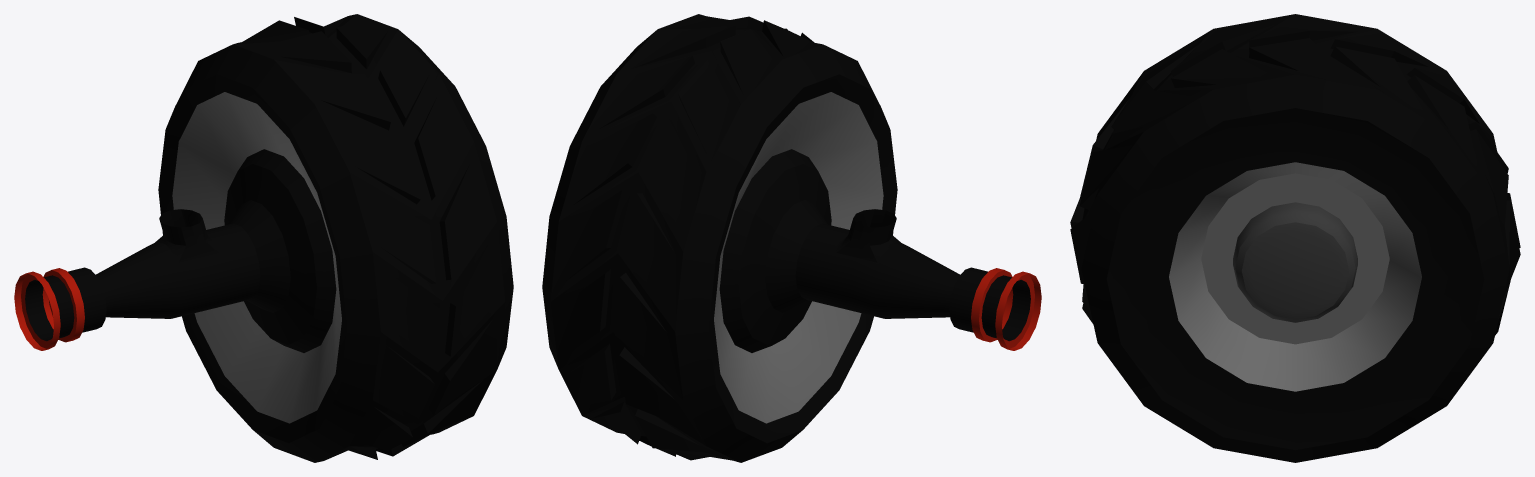
Rendered from wheel2.fbx.
3 views of the same model, side by side, from view 1: azimuth 30°, elevation 25°; view 2: azimuth 150°, elevation 25°; view 3: azimuth 270°, elevation 25° (orthographic).
Visible parts, largest first — view 1: Circle.004; view 2: Circle.004; view 3: Circle.004.
Boxes of the visible parts, x1,y1,x2,y2 form: Circle.004: [14, 14, 513, 462]; Circle.004: [542, 14, 1041, 462]; Circle.004: [1070, 14, 1520, 462].
Bounding box in the file's own units: 170 × 172 × 172.
Materials: 1 (1 with a texture image).
